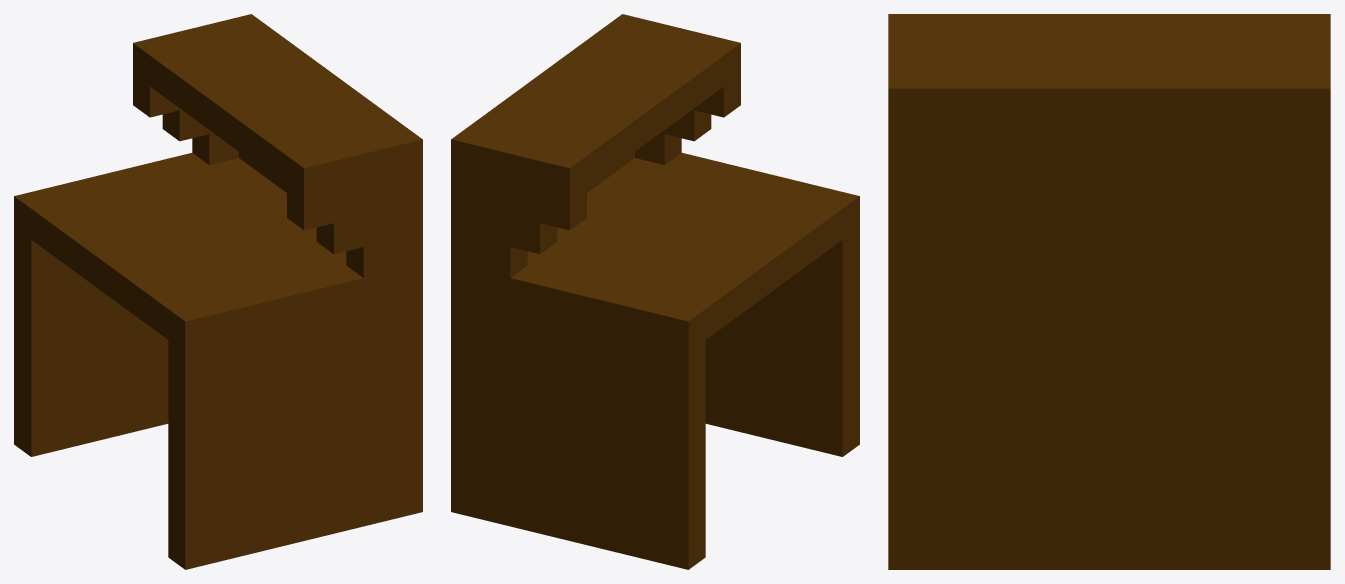
Rendered from Desk.fbx.
3 views of the same model, side by side, from view 1: azimuth 30°, elevation 25°; view 2: azimuth 150°, elevation 25°; view 3: azimuth 270°, elevation 25° (orthographic). The views are drawn at different scales.
Visible parts, largest first — view 1: Desk; view 2: Desk; view 3: Desk.
Part boxes in pixels (x1,y1,x2,y2): Desk: [14, 14, 422, 569]; Desk: [451, 14, 859, 569]; Desk: [888, 14, 1330, 569].
Size of the model in its own units: 739 by 1108 by 924.
